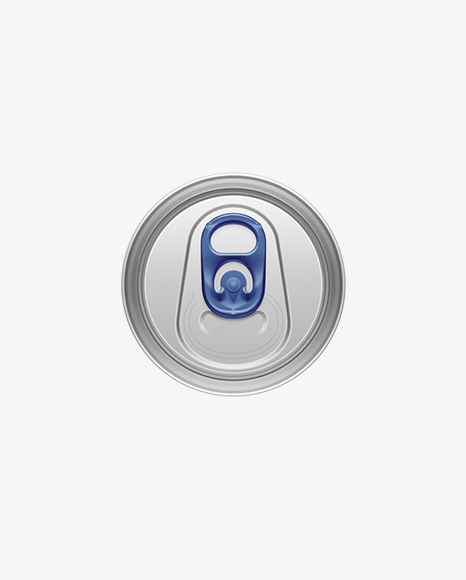beer can: (122, 174, 348, 395)
